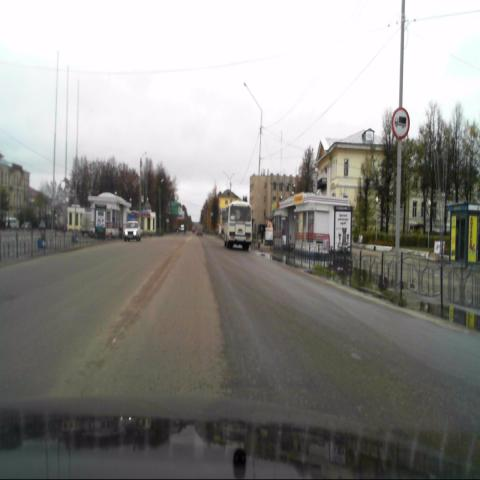3_4_1: (391, 107, 410, 139)
